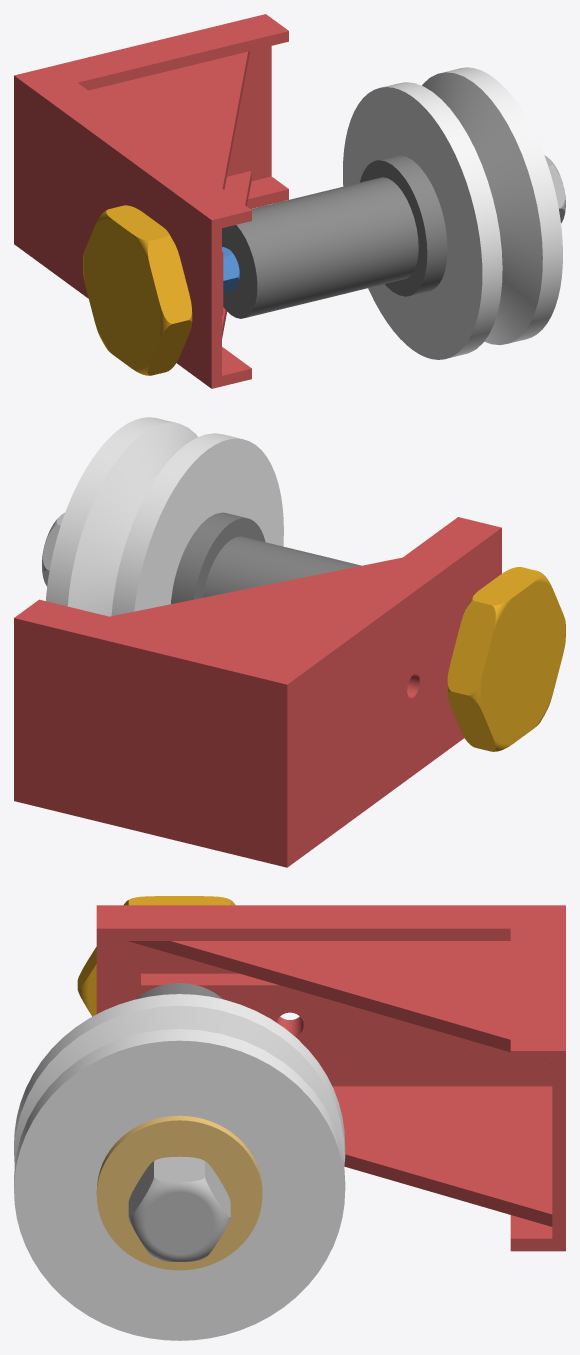
Rendered from Pully System Assembly Merged.fbx.
The picture shows the model from 3 angles, top to bottom: view 1: azimuth 30°, elevation 25°; view 2: azimuth 150°, elevation 25°; view 3: azimuth 270°, elevation 25°; orthographic projection. The views are drawn at different scales.
Parts seen in each view (by area): view 1: Body1, Body4, Body3, Body8, Body2, Body6; view 2: Body1, Body4, Body8, Body3, Body6; view 3: Body1, Body4, Body5, Body6, Body8, Body3.
Boxes of the visible parts, left/top/right/bottom form: Body1: left=14, top=14, right=288, bottom=388; Body4: left=343, top=67, right=562, bottom=359; Body3: left=222, top=155, right=447, bottom=318; Body8: left=83, top=205, right=192, bottom=375; Body2: left=222, top=247, right=239, bottom=293; Body6: left=544, top=155, right=565, bottom=223; Body1: left=14, top=517, right=501, bottom=867; Body4: left=46, top=417, right=283, bottom=616; Body8: left=447, top=567, right=565, bottom=751; Body3: left=171, top=512, right=361, bottom=603; Body6: left=42, top=512, right=65, bottom=586; Body1: left=96, top=905, right=565, bottom=1251; Body4: left=14, top=994, right=345, bottom=1340; Body5: left=96, top=1115, right=262, bottom=1270; Body6: left=128, top=1156, right=230, bottom=1261; Body8: left=77, top=896, right=235, bottom=1016; Body3: left=136, top=983, right=222, bottom=999.
Size of the model in its own units: 53 by 30 by 50.
